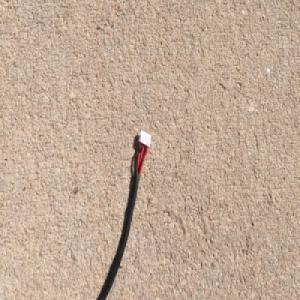Wire: (90, 127, 152, 300)
